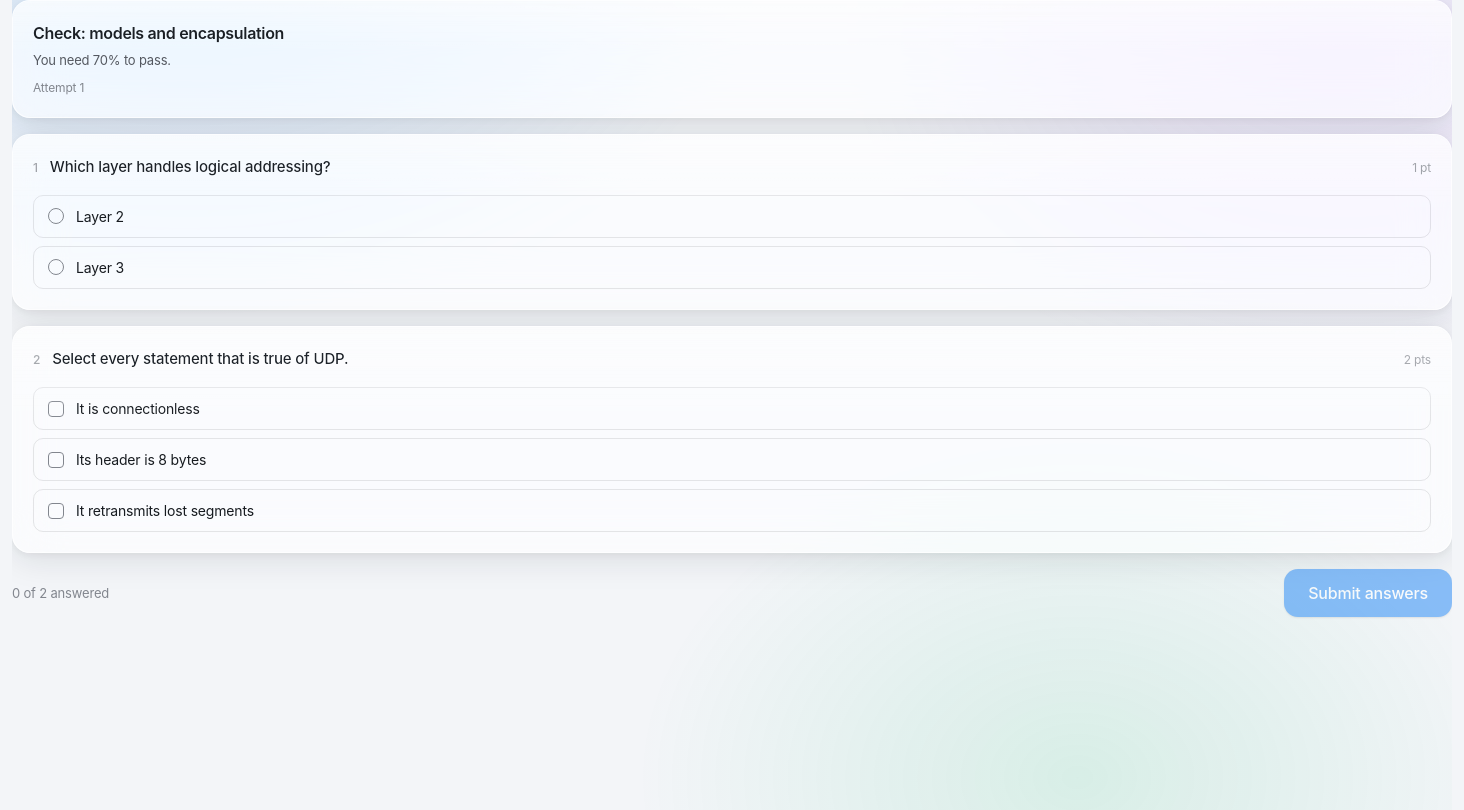
Scenario: QuizRunner › tracks how many questions are answered
The width and height of the screenshot is (1464, 810).
Expected: the text "0 of 2 answered" is shown, [12,584,109,603]
What coordinates should you click on to do the following:
click the radio button labelled "Layer 3"
I would click on:
 (100, 267)
Its box is [33,246,1431,289].
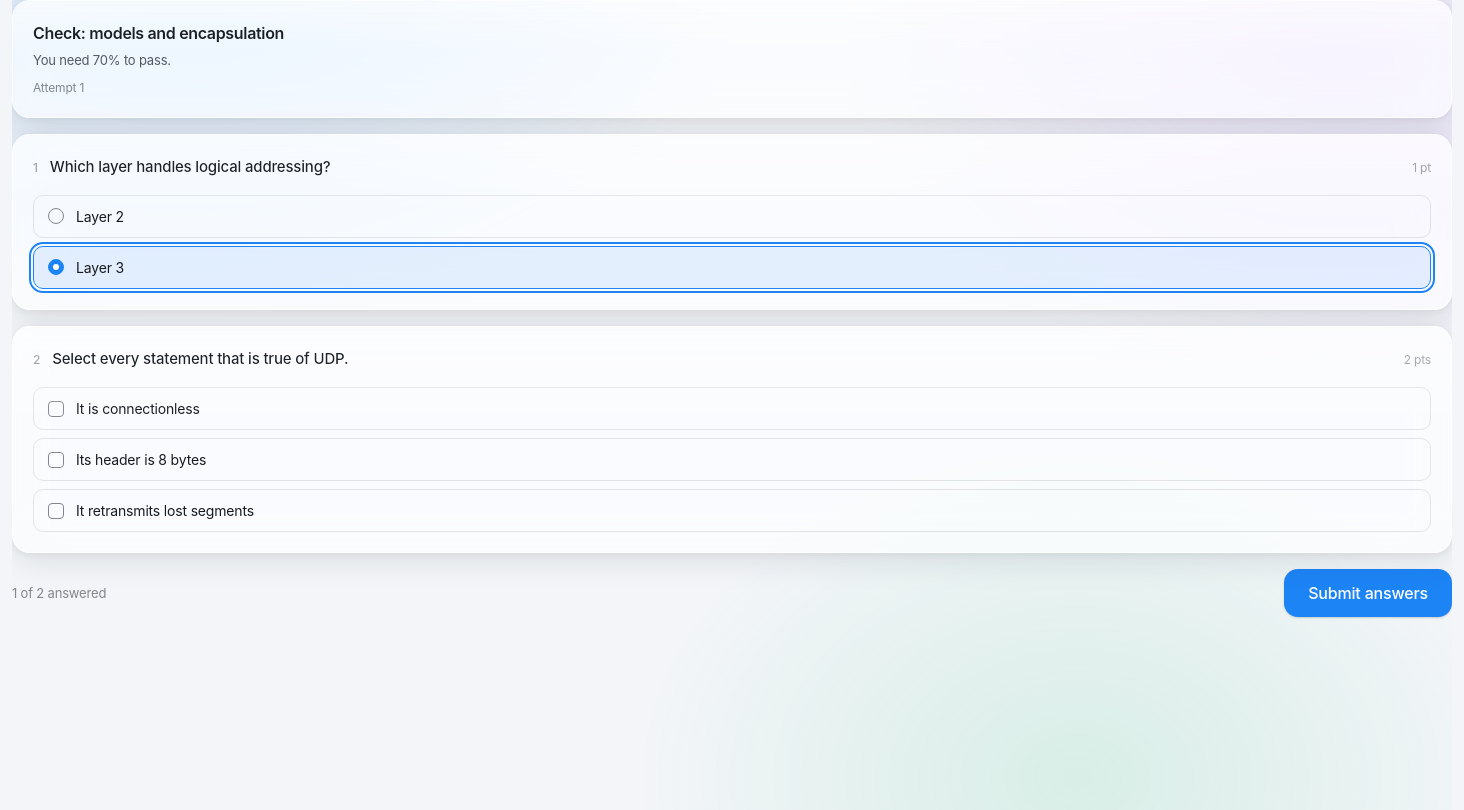
Now the text "1 of 2 answered" is shown, box [12,584,106,603]
